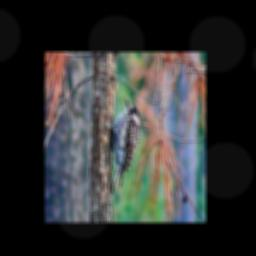Woodpecker: (100, 93, 146, 199)
